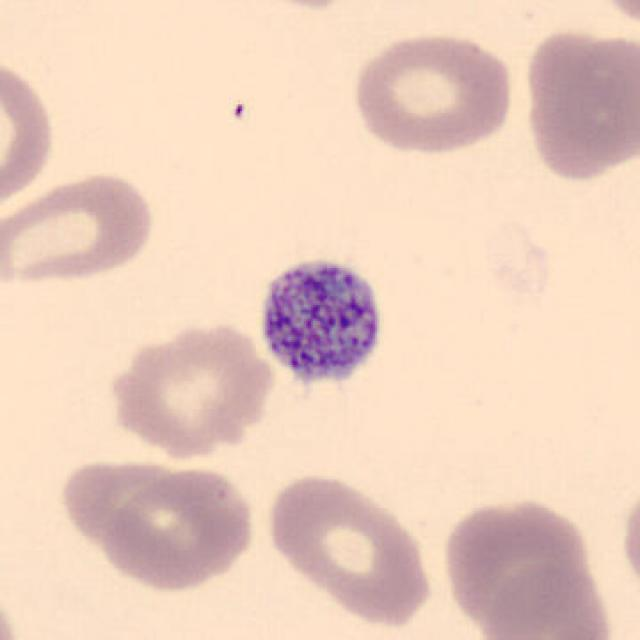Platelets: (247, 245, 391, 395)
RBC: (262, 467, 438, 631), (103, 318, 277, 460), (438, 494, 598, 634), (347, 26, 517, 157), (93, 462, 260, 594), (0, 168, 160, 289), (519, 23, 638, 183), (476, 557, 620, 640), (0, 51, 59, 215), (617, 472, 640, 604), (581, 0, 640, 39), (0, 580, 27, 640)
